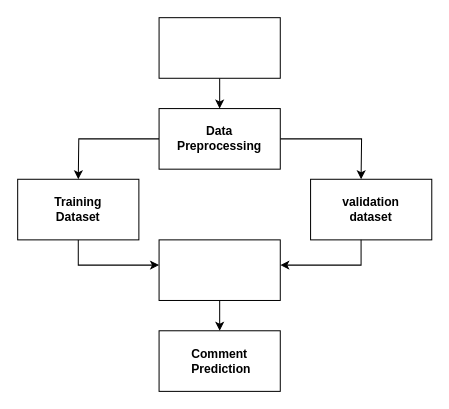
The diagram is 449 pixels wide and 409 high, and some of its shapes have lost their labels. Here are the shapes that lost their labels. From the top down, the centre of each, then its label:
(x=219, y=47): Input Raw Data
(x=219, y=269): Create Model (BERT +CNN)
